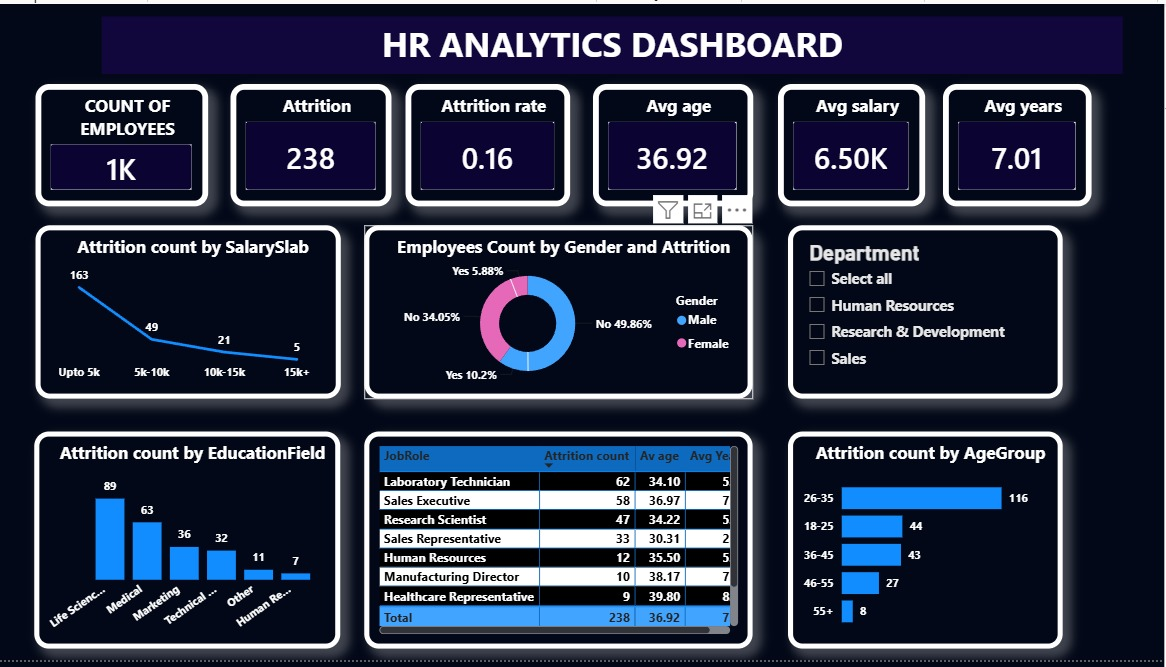

Layout of this report page (visuals, bound fields, positions):
{"tool":"powerbi","page":{"name":"Page 1","canvas":[1280,720],"ordinal":0},"visuals":[{"type":"textbox","box":[113.9,13.7,1121.1,63.1],"z":0},{"type":"cardVisual","title":"COUNT OF EMPLOYEES","fields":{"Data":["HR_Analytics (2).Total employees"]},"box":[41.2,87.8,189.4,134.5],"z":1000},{"type":"cardVisual","title":"Attrition","fields":{"Data":["HR_Analytics (2).Attrition count"]},"box":[255.2,87.8,177,134.5],"z":2000},{"type":"cardVisual","title":"Attrition rate","fields":{"Data":["HR_Analytics (2).Attrition rate"]},"box":[447.3,87.8,181.1,134.5],"z":3000},{"type":"cardVisual","title":"Avg age","fields":{"Data":["HR_Analytics (2).Av age"]},"box":[653.2,87.8,175.6,134.5],"z":4000},{"type":"cardVisual","title":"Avg salary","fields":{"Data":["HR_Analytics (2).Avg salary"]},"box":[856.3,87.8,161.9,134.5],"z":5000},{"type":"cardVisual","title":"Avg years","fields":{"Data":["HR_Analytics (2).Avg Years"]},"box":[1037.4,87.8,163.3,134.5],"z":6000},{"type":"columnChart","fields":{"Y":["HR_Analytics (2).Attrition count"],"Category":["HR_Analytics (2).EducationField"]},"box":[39.8,469.3,336.2,238.8],"z":7000},{"type":"donutChart","title":"Employees Count by Gender and Attrition","fields":{"Category":["HR_Analytics (2).Gender"],"Y":["HR_Analytics (2).Total employees"],"Series":["HR_Analytics (2).Attrition"]},"box":[402.1,242.9,426.8,190.7],"z":8000},{"type":"clusteredBarChart","fields":{"Category":["HR_Analytics (2).AgeGroup"],"Y":["HR_Analytics (2).Attrition count"]},"box":[867.2,469.3,301.9,238.8],"z":9000},{"type":"lineChart","fields":{"Y":["HR_Analytics (2).Attrition count"],"Category":["HR_Analytics (2).SalarySlab"]},"box":[41.2,242.9,334.8,190.7],"z":10000},{"type":"tableEx","fields":{"Values":["HR_Analytics (2).JobRole","HR_Analytics (2).Attrition count","HR_Analytics (2).Av age","HR_Analytics (2).Avg Years"]},"box":[402.1,469.3,426.8,238.8],"z":11000},{"type":"slicer","fields":{"Values":["HR_Analytics (2).Department"]},"box":[867.2,242.9,301.9,190.7],"z":12000}]}

Visuals, with their boxes in screenshot pixels (x1, y1, x2, y2), scaled from the page's 1280x720 canvas onto the 1166x667 screenshot:
textbox: l=104, t=13, r=1125, b=71
"COUNT OF EMPLOYEES" cardVisual: l=38, t=81, r=210, b=206
"Attrition" cardVisual: l=232, t=81, r=394, b=206
"Attrition rate" cardVisual: l=407, t=81, r=572, b=206
"Avg age" cardVisual: l=595, t=81, r=755, b=206
"Avg salary" cardVisual: l=780, t=81, r=928, b=206
"Avg years" cardVisual: l=945, t=81, r=1094, b=206
columnChart - HR_Analytics (2).Attrition count x HR_Analytics (2).EducationField: l=36, t=435, r=343, b=656
"Employees Count by Gender and Attrition" donutChart: l=366, t=225, r=755, b=402
clusteredBarChart - HR_Analytics (2).AgeGroup x HR_Analytics (2).Attrition count: l=790, t=435, r=1065, b=656
lineChart - HR_Analytics (2).Attrition count x HR_Analytics (2).SalarySlab: l=38, t=225, r=343, b=402
tableEx - HR_Analytics (2).JobRole x HR_Analytics (2).Attrition count: l=366, t=435, r=755, b=656
slicer - HR_Analytics (2).Department: l=790, t=225, r=1065, b=402
